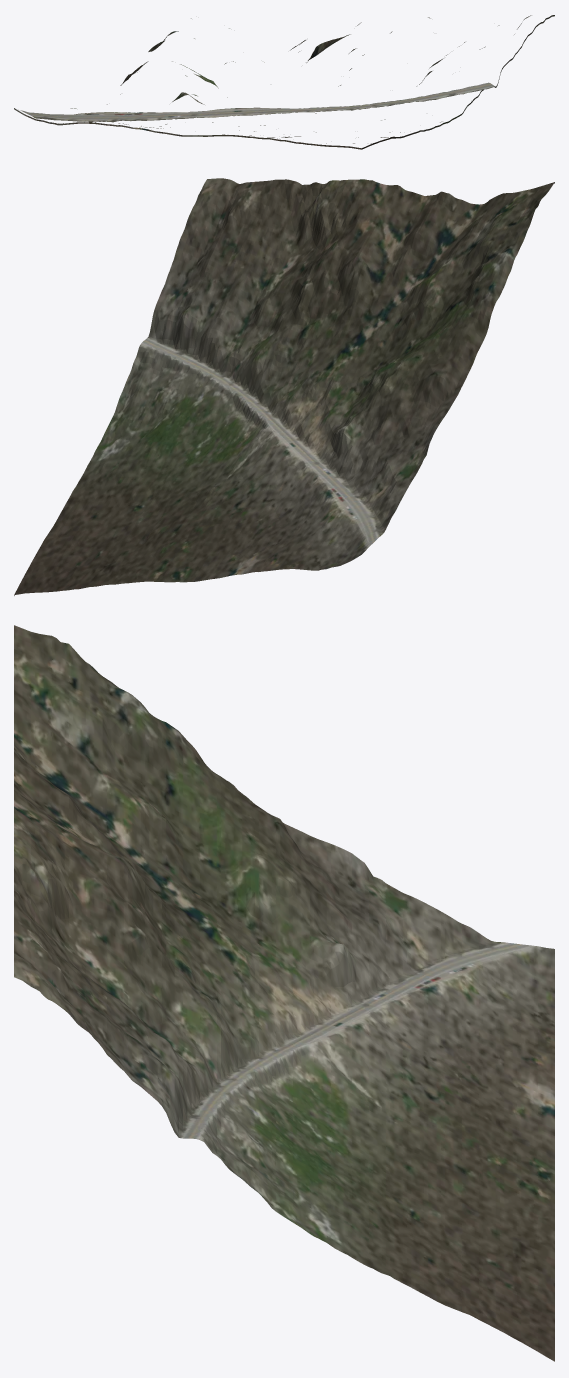
3 renders of one model, top to bottom at view 1: azimuth 30°, elevation 25°; view 2: azimuth 150°, elevation 25°; view 3: azimuth 270°, elevation 25°, orthographic. The views are drawn at different scales.
Bounding box in the file's own units: 250 × 246 × 241.
1 material, 1 textured.
